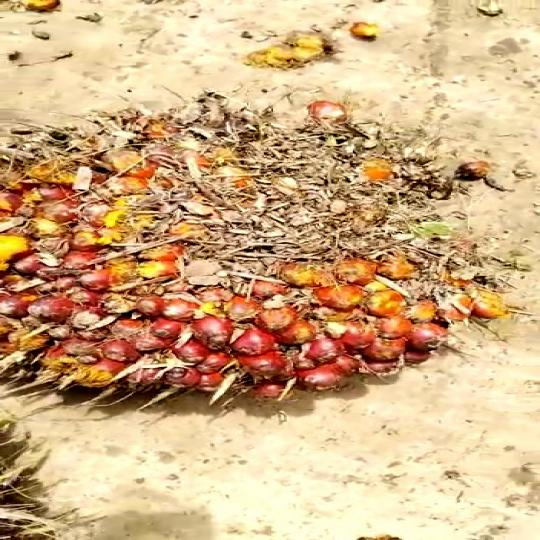masak: (0, 100, 540, 419)
